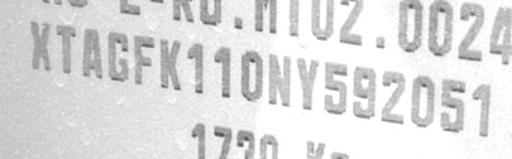letter: (438, 76, 468, 131), (408, 73, 436, 126), (266, 52, 292, 107), (294, 56, 320, 111), (322, 59, 348, 114), (351, 63, 377, 118), (379, 69, 405, 124), (238, 48, 264, 101), (158, 36, 182, 91), (470, 81, 494, 136), (80, 26, 104, 80), (29, 18, 53, 71), (106, 30, 130, 83), (54, 22, 76, 75), (133, 34, 155, 85), (185, 40, 205, 95), (212, 44, 232, 99)
